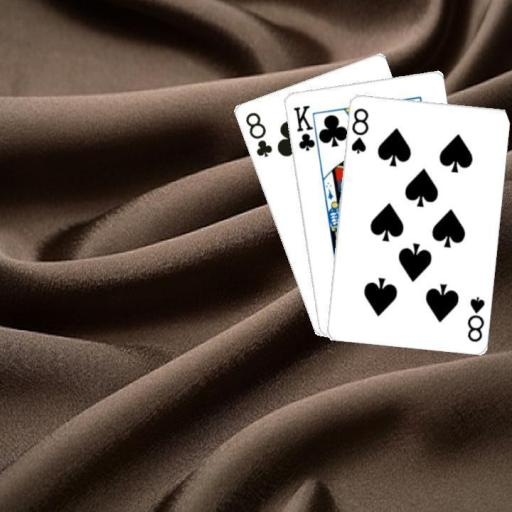card-corner: (290, 102, 322, 155), (242, 108, 274, 158), (348, 105, 370, 155), (464, 293, 486, 343)
